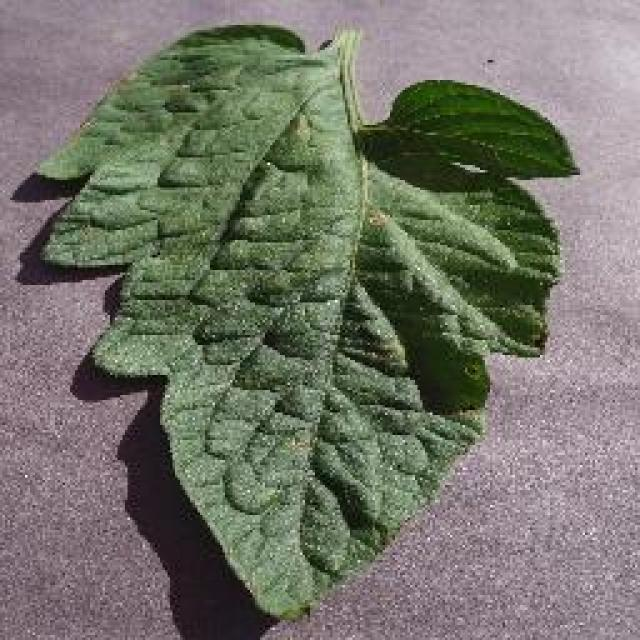Tomato___Target_Spot: (40, 25, 572, 618)
